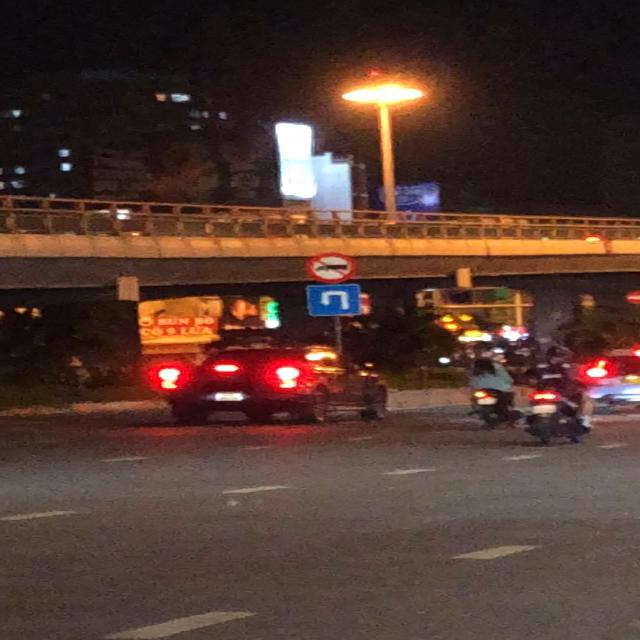Bien bao cam xe so-mi ro-mooc: (303, 251, 357, 283)
